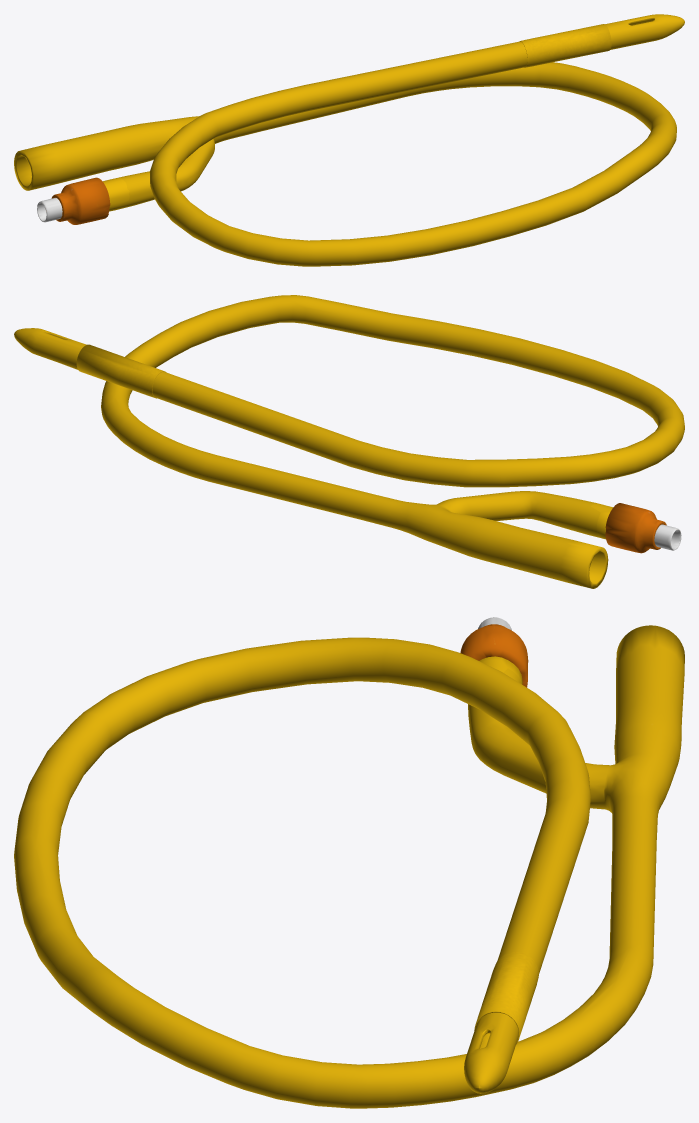
The model's file is 10. Catheter.glb.
The picture shows the model from 3 angles, top to bottom: view 1: azimuth 30°, elevation 25°; view 2: azimuth 150°, elevation 25°; view 3: azimuth 270°, elevation 25°; orthographic projection. The views are drawn at different scales.
Parts seen in each view (by area): view 1: Catheter 1.002; view 2: Catheter 1.002; view 3: Catheter 1.002.
Boxes of the visible parts, <box> form: Catheter 1.002: <box>14,14,684,266</box>; Catheter 1.002: <box>14,295,684,588</box>; Catheter 1.002: <box>14,617,684,1108</box>.
Bounding box in the file's own units: 0.1983 × 0.0203 × 0.1082.
Materials: 1 (1 with a texture image).
